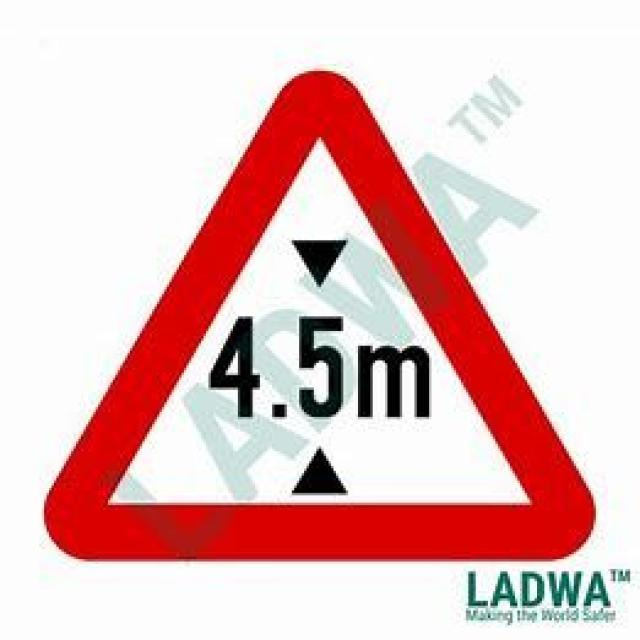height limit: (28, 60, 601, 577)
